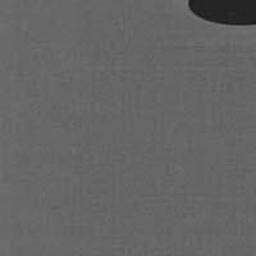Punching: (188, 0, 256, 28)
